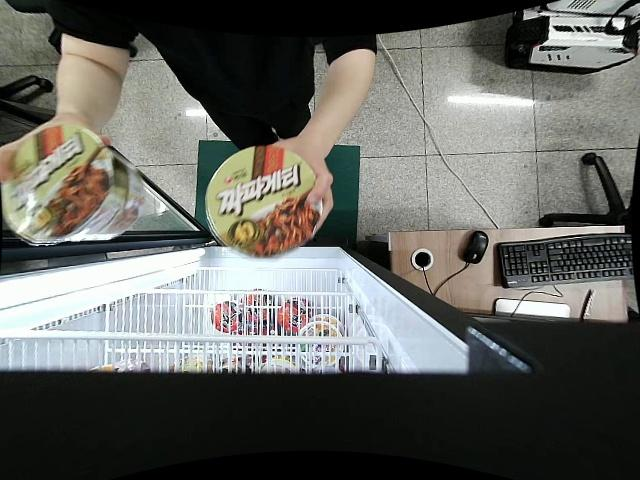00_hand: (0, 109, 112, 186), (260, 135, 335, 239)
03_chapagetti_L: (0, 125, 144, 243), (206, 143, 323, 257)
